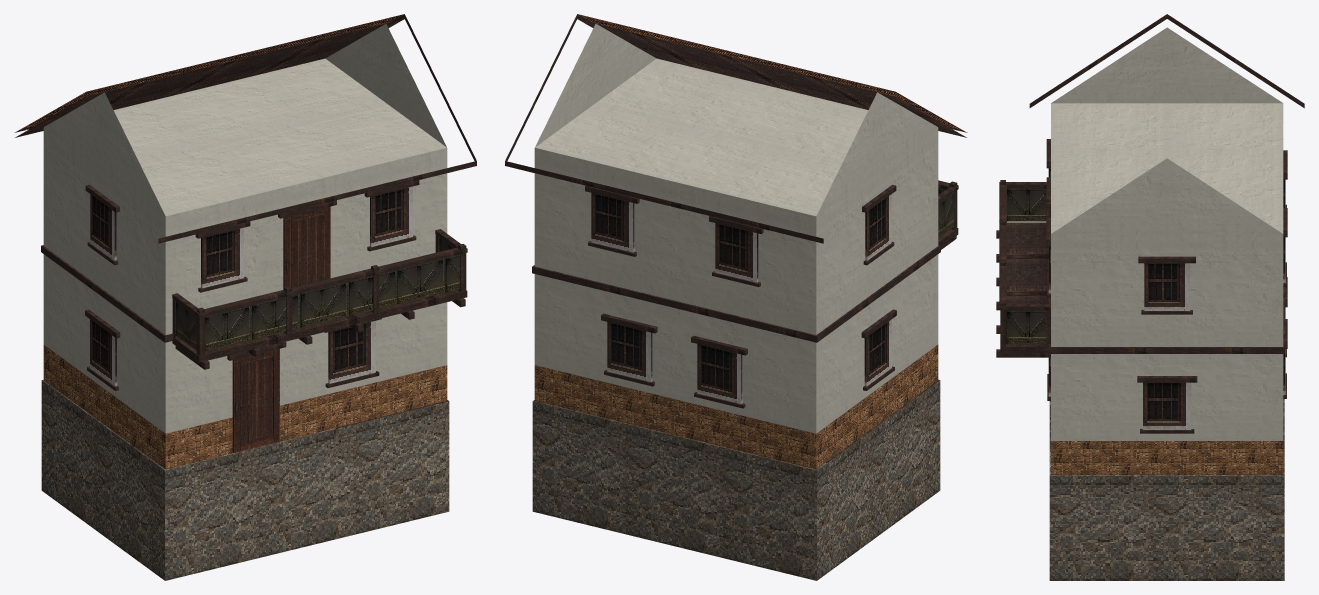
Rendered from 11_andina2p_blanco_humo_balcon.glb.
3 views of the same model, side by side, from view 1: azimuth 30°, elevation 25°; view 2: azimuth 150°, elevation 25°; view 3: azimuth 270°, elevation 25° (orthographic). The views are drawn at different scales.
Parts seen in each view (by area): view 1: 11_andina2p_blanco_humo_balcon; view 2: 11_andina2p_blanco_humo_balcon; view 3: 11_andina2p_blanco_humo_balcon.
Part boxes in pixels (x1=…): 11_andina2p_blanco_humo_balcon: x1=14, y1=14, x2=476, y2=580; 11_andina2p_blanco_humo_balcon: x1=505, y1=14, x2=967, y2=580; 11_andina2p_blanco_humo_balcon: x1=996, y1=14, x2=1304, y2=580.
Size of the model in its own units: 7.24 by 9.74 by 6.37.
8 materials, 8 textured.
